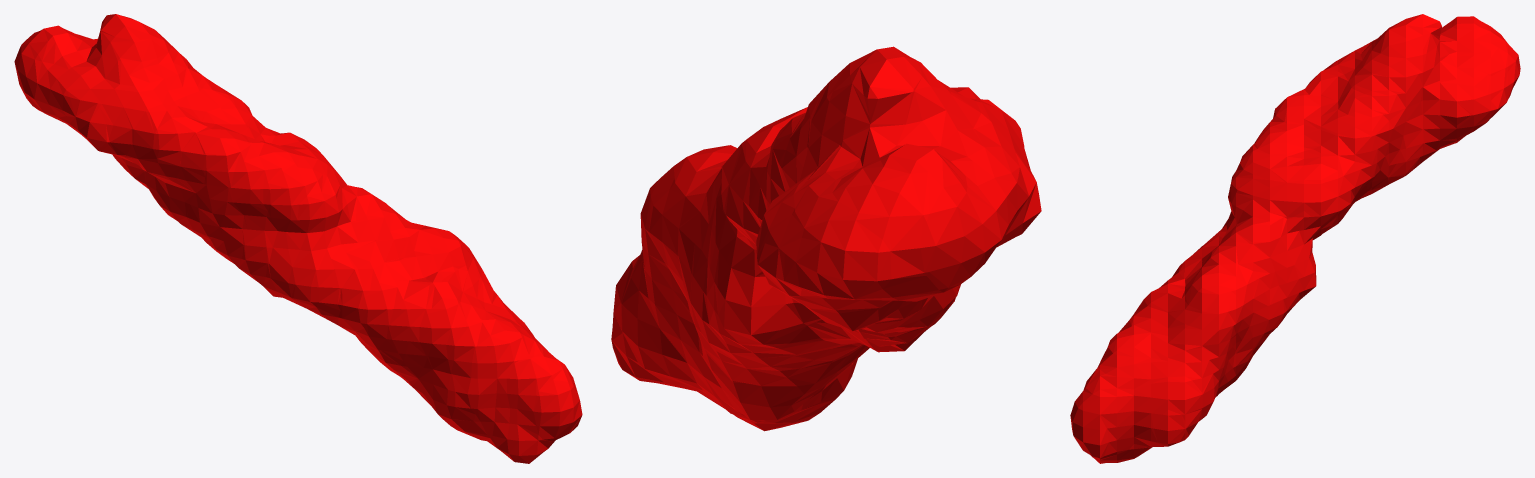
Rendered from pspA_coarse.dae.
The picture shows the model from 3 angles, left to right: view 1: azimuth 30°, elevation 25°; view 2: azimuth 150°, elevation 25°; view 3: azimuth 270°, elevation 25°; orthographic projection. The views are drawn at different scales.
Parts seen in each view (by area): view 1: pspA; view 2: pspA; view 3: pspA.
Part boxes in pixels (left/top/right/bottom): pspA: left=14, top=14, right=582, bottom=463; pspA: left=611, top=46, right=1041, bottom=431; pspA: left=1070, top=14, right=1520, bottom=463.
Bounding box in the file's own units: 75.61 × 75.9 × 89.81.
